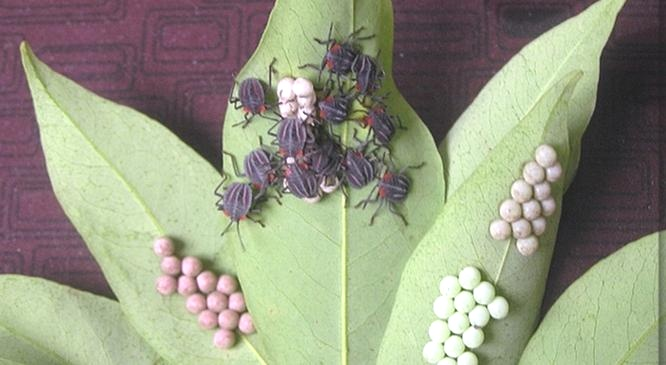Stink_Bug: (137, 238, 263, 340), (332, 90, 420, 215), (433, 263, 489, 361), (316, 21, 378, 106), (225, 69, 316, 125), (273, 113, 335, 192), (503, 149, 544, 248), (238, 145, 290, 190), (212, 178, 270, 217)
